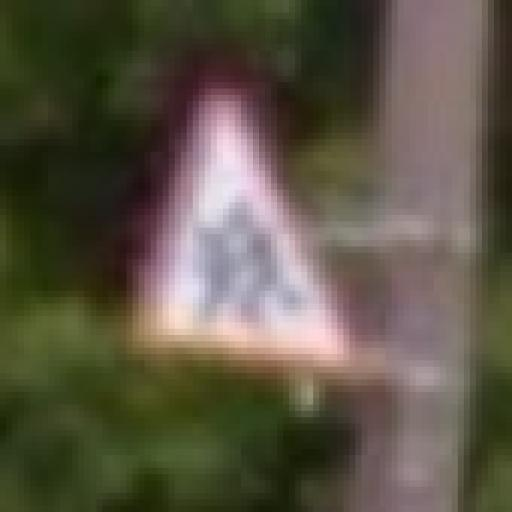traffic_sign: (122, 90, 357, 368)
